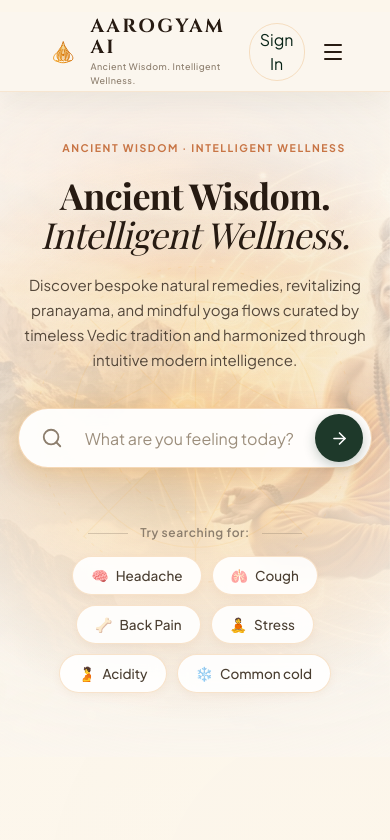
AAROGYAM AI landing page › keeps the responsive navigation accessible and closes it after selection
The image size is (390, 840).
Step 1. Click the button named "Open navigation menu" → [332, 52], box [312,32,352,72]
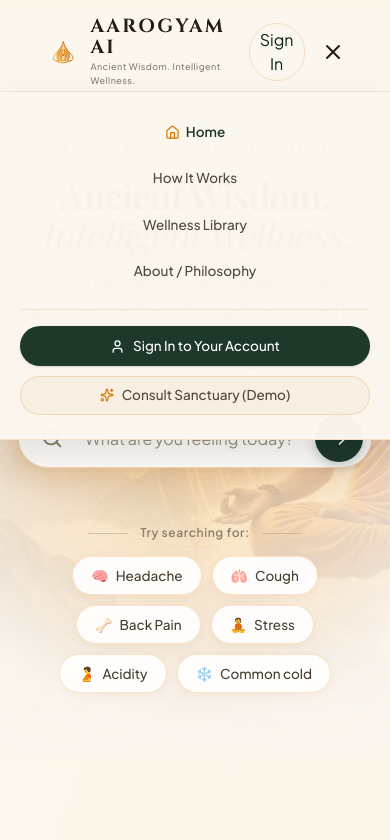
Result: the button named "Close navigation menu" is expanded at [312,32,352,72]
Step 2. Click the link "Home" → [195, 132], box [165,123,225,140]
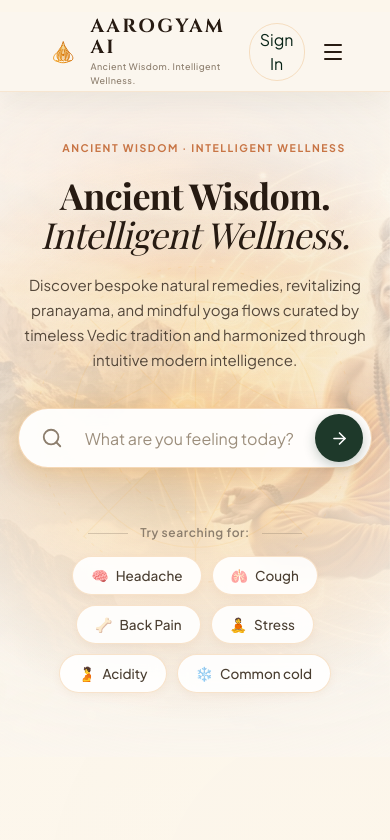
Result: the button named "Open navigation menu" is collapsed at [312,32,352,72]
